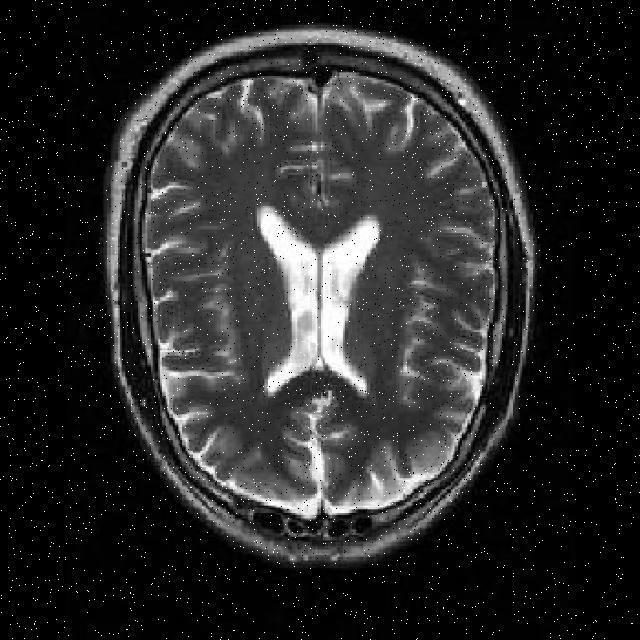No_Tumor: (106, 28, 533, 564)
